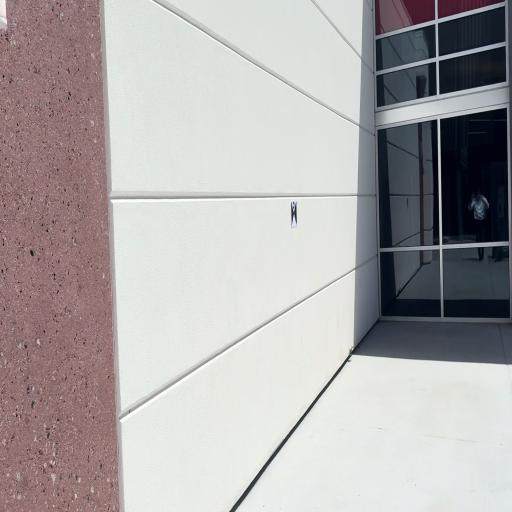target0: (291, 201, 297, 228)
